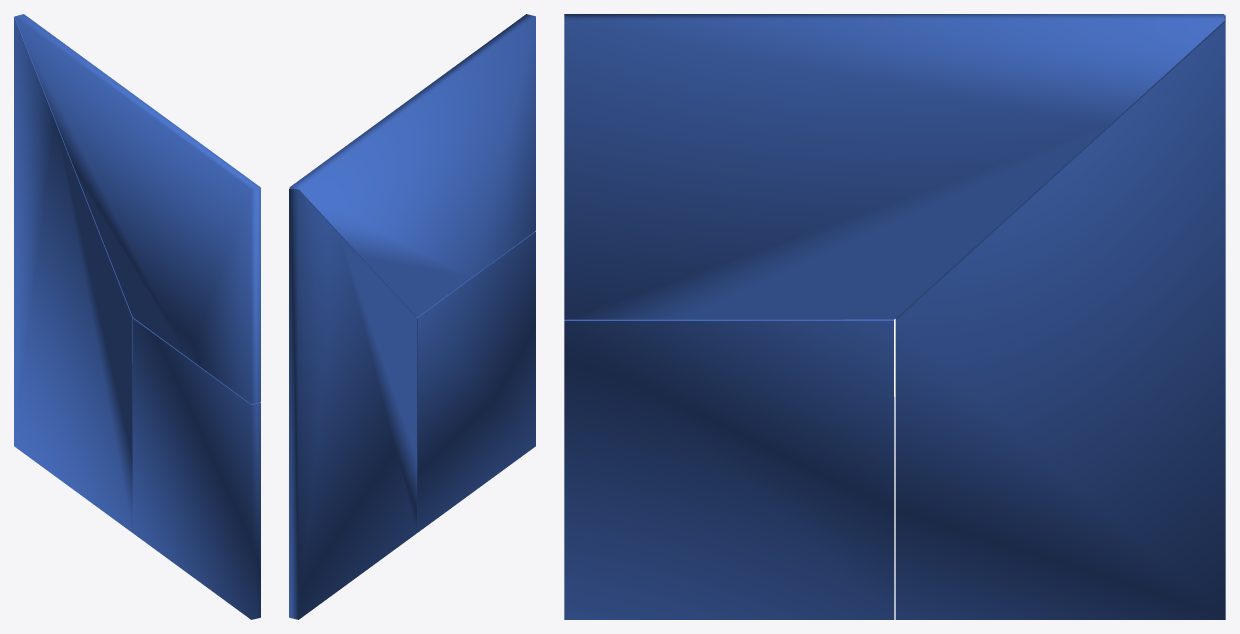
The model's file is emergencyBoxGlassDes.fbx.
3 views of the same model, side by side, from view 1: azimuth 30°, elevation 25°; view 2: azimuth 150°, elevation 25°; view 3: azimuth 270°, elevation 25° (orthographic). The views are drawn at different scales.
Parts seen in each view (by area): view 1: glass_cell.001, glass_cell.002, glass_cell; view 2: glass_cell.002, glass_cell.001, glass_cell; view 3: glass_cell.001, glass_cell.002, glass_cell.
Part boxes in pixels (x1,y1,x2,y2): glass_cell.001: (14, 14, 260, 404); glass_cell.002: (14, 16, 133, 532); glass_cell: (133, 318, 260, 619); glass_cell.002: (289, 188, 416, 619); glass_cell.001: (289, 14, 535, 317); glass_cell: (416, 231, 535, 532); glass_cell.001: (564, 14, 1224, 319); glass_cell.002: (895, 15, 1225, 619); glass_cell: (564, 319, 894, 619).
Size of the model in its own units: 2.01 by 87.08 by 87.08.
